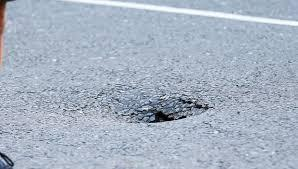pothole: (105, 76, 217, 129)
